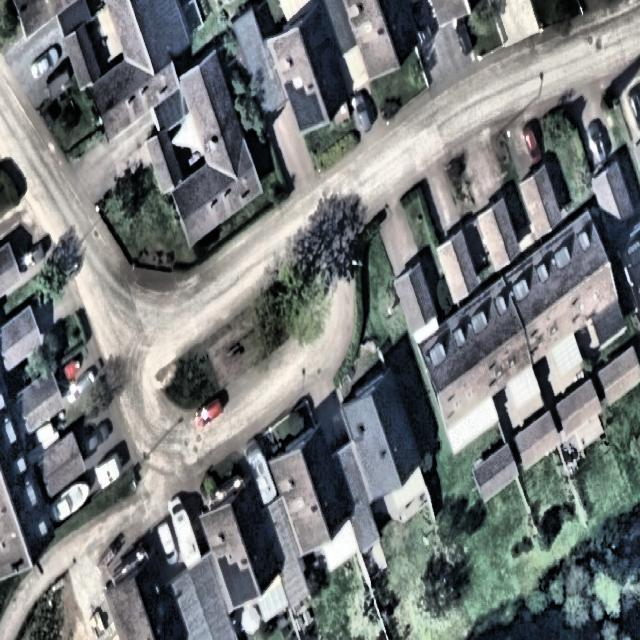roof_pv: (220, 560, 260, 609), (286, 84, 325, 134)
